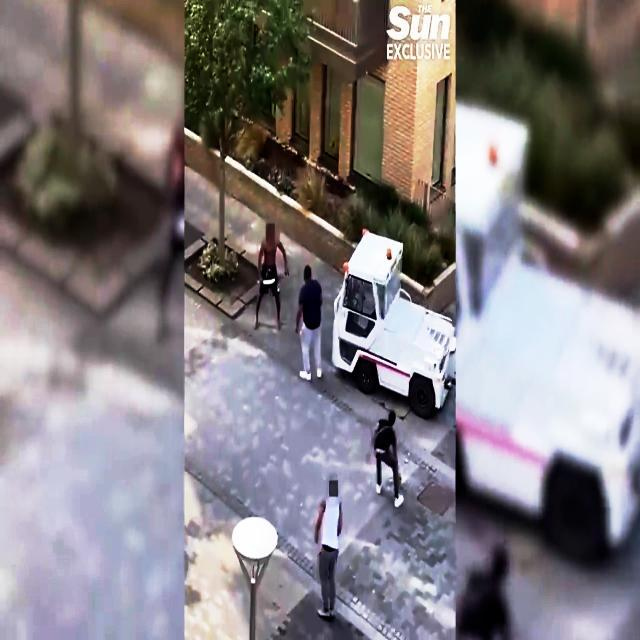Knife: (258, 273, 284, 294)
